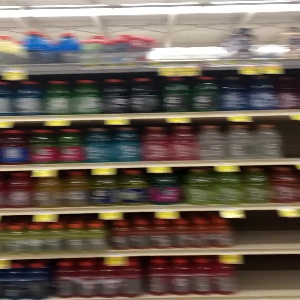void: (238, 251, 300, 297), (235, 211, 300, 246)
